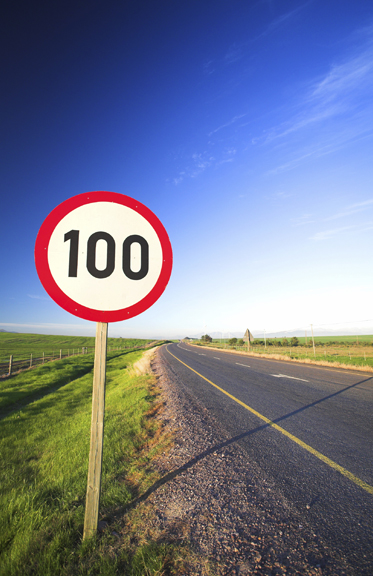Speed_limit_100km: (33, 189, 175, 323)
